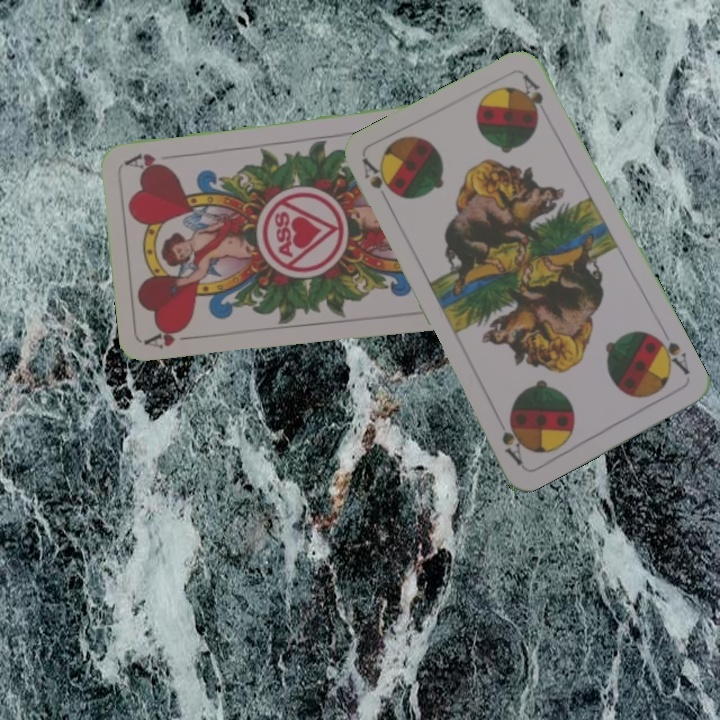HA: (143, 322, 203, 351)
SA: (649, 331, 692, 378), (358, 154, 394, 210)
